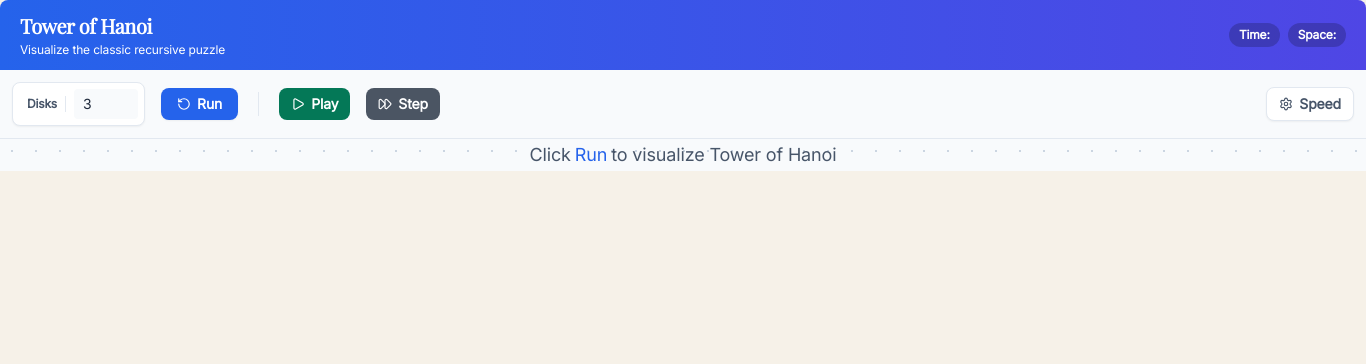
it: TowerOfHanoiVisualizer › builds a trace and renders the three pegs when Run is pressed
The image size is (1366, 364).
What coordinates should you click on to do the following:
click the button "Run"
I would click on:
 (200, 104)
Its box is top-left (161, 88), bottom-right (238, 120).
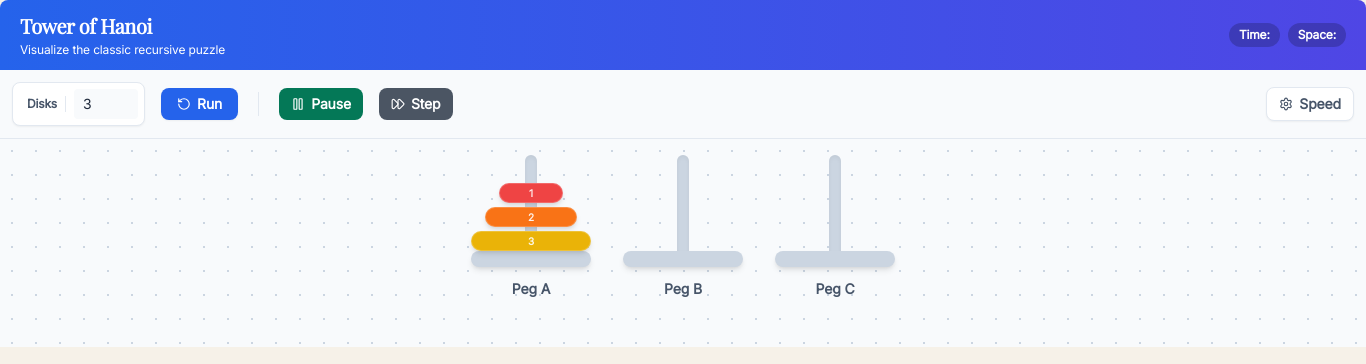
expect the text "Peg A" is shown: met, box top-left (512, 279), bottom-right (550, 299)
expect the text "Peg B" is shown: met, box top-left (664, 279), bottom-right (702, 299)
expect the text "Peg C" is shown: met, box top-left (816, 279), bottom-right (854, 299)
